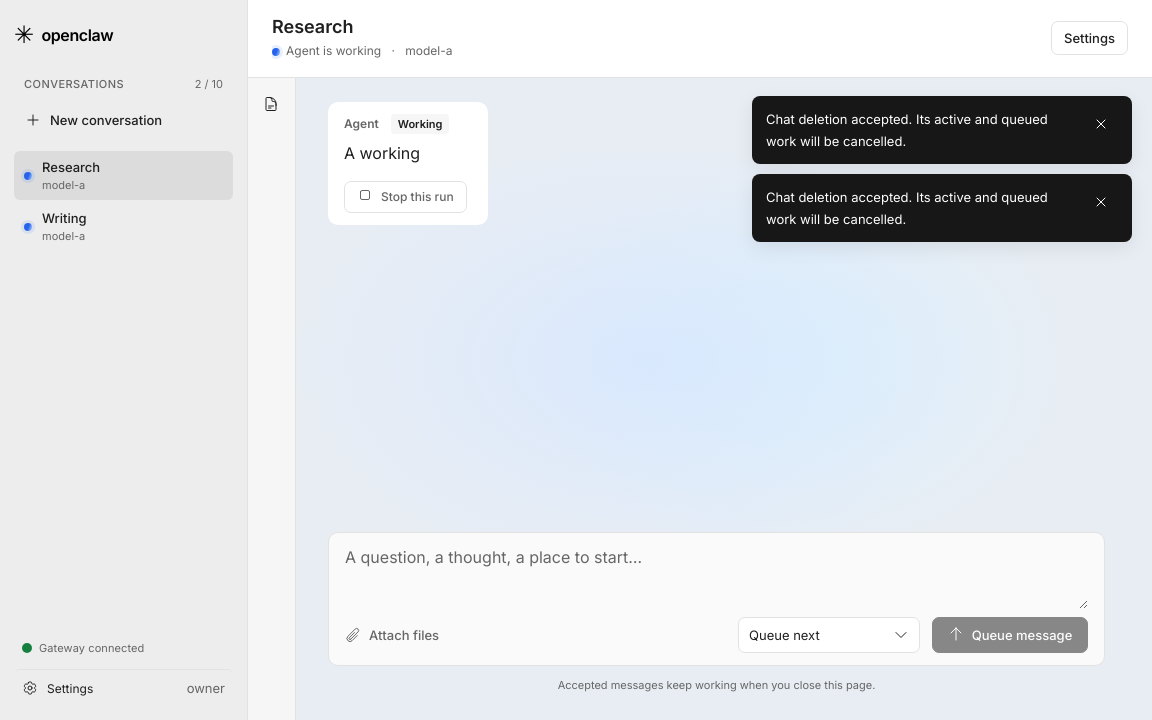
Test case: does not carry an outstanding abort or its late error into another chat route
expect the text box named "Message Research" is shown: met, box [345,545,1088,609]
Click the button "Stop this run" at (405, 197), box [344,181,467,213]
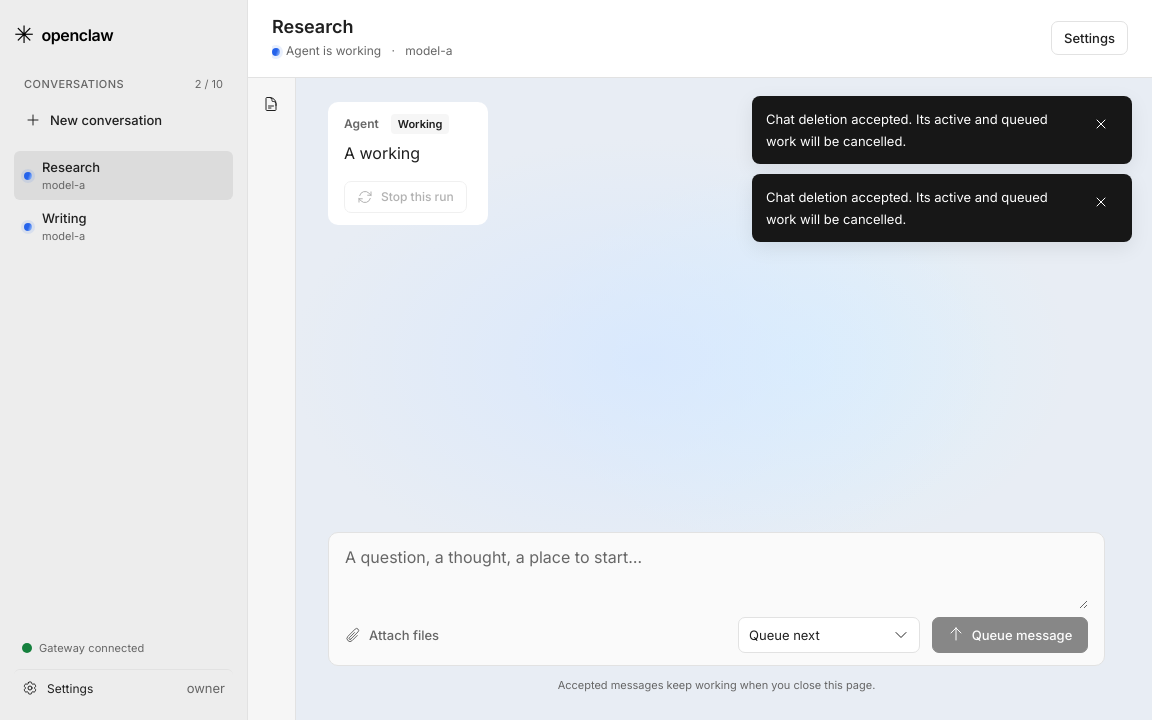
Click the link "Writing model-a" at (55, 226), box [24,210,87,243]
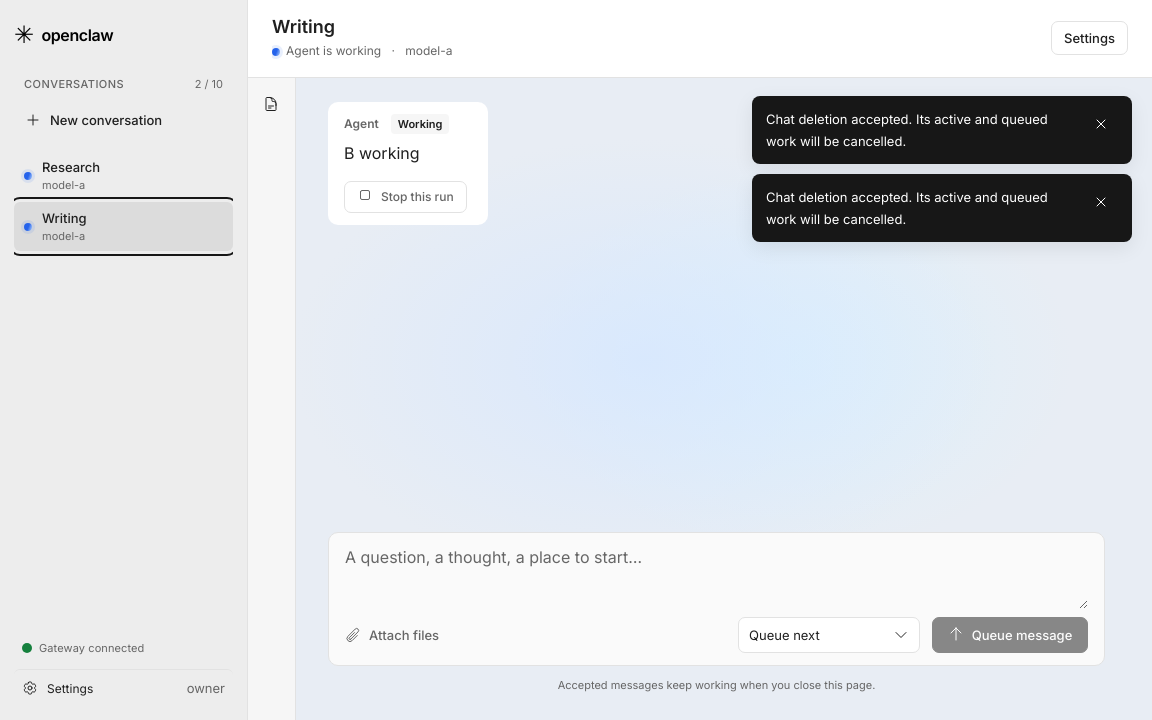
expect the text box named "Message Writing" is shown: met, box [345,545,1088,609]
expect the button "Stop this run" is enabled: met, box [344,181,467,213]
